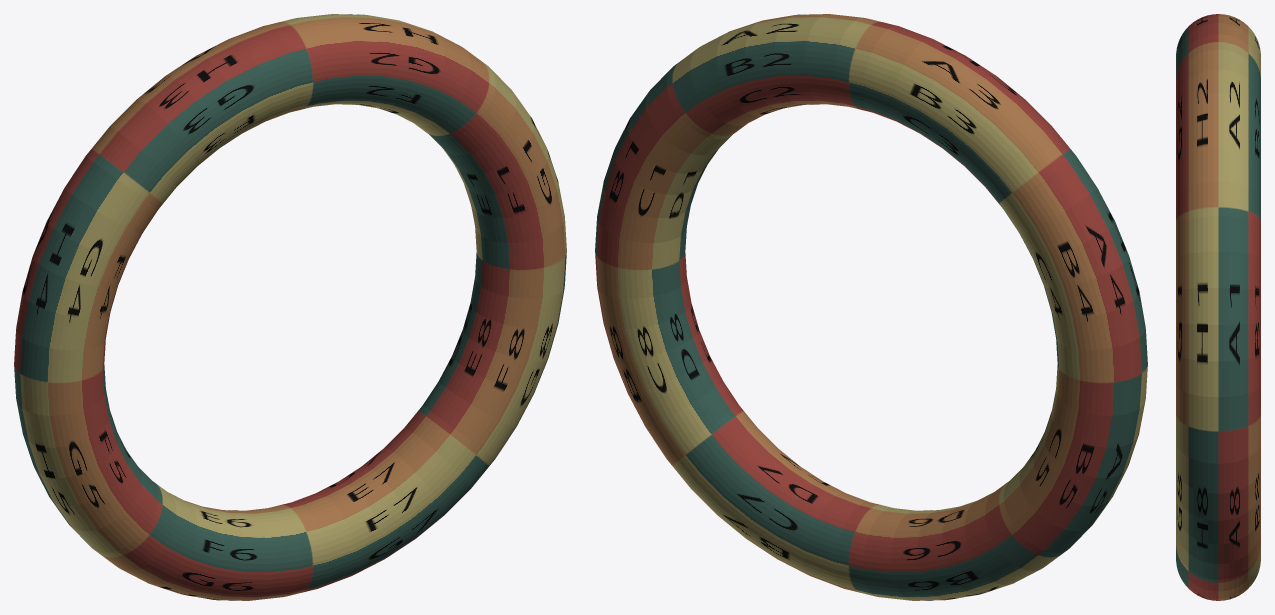
The model's file is texture_torus_R24_r9.glb.
3 views of the same model, side by side, from view 1: azimuth 30°, elevation 25°; view 2: azimuth 150°, elevation 25°; view 3: azimuth 270°, elevation 25° (orthographic). The views are drawn at different scales.
Visible parts, largest first — view 1: world; view 2: world; view 3: world.
Boxes of the visible parts, bbox=[...] form: world: bbox=[14, 14, 566, 600]; world: bbox=[595, 14, 1147, 600]; world: bbox=[1176, 14, 1260, 600].
Size of the model in its own units: 30.4 by 30.34 by 4.39.
Materials: 1 (1 with a texture image).
